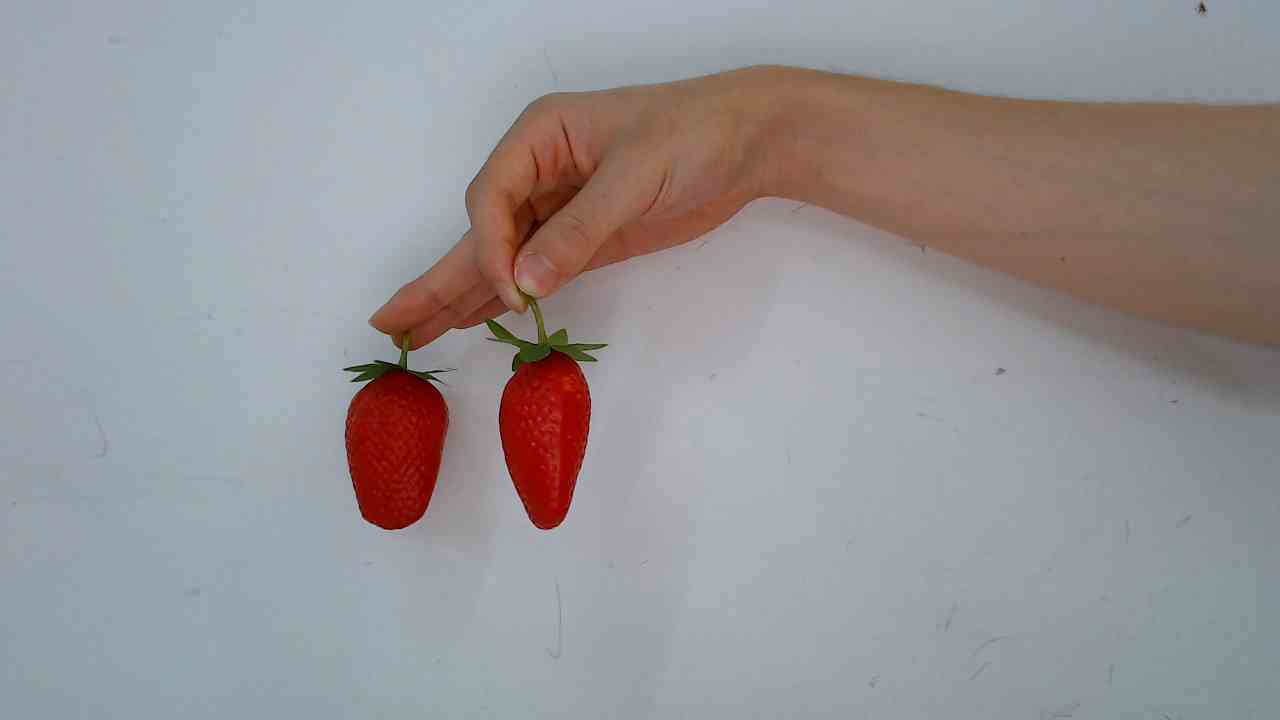strawberry: (490, 339, 611, 536), (333, 359, 452, 535)
